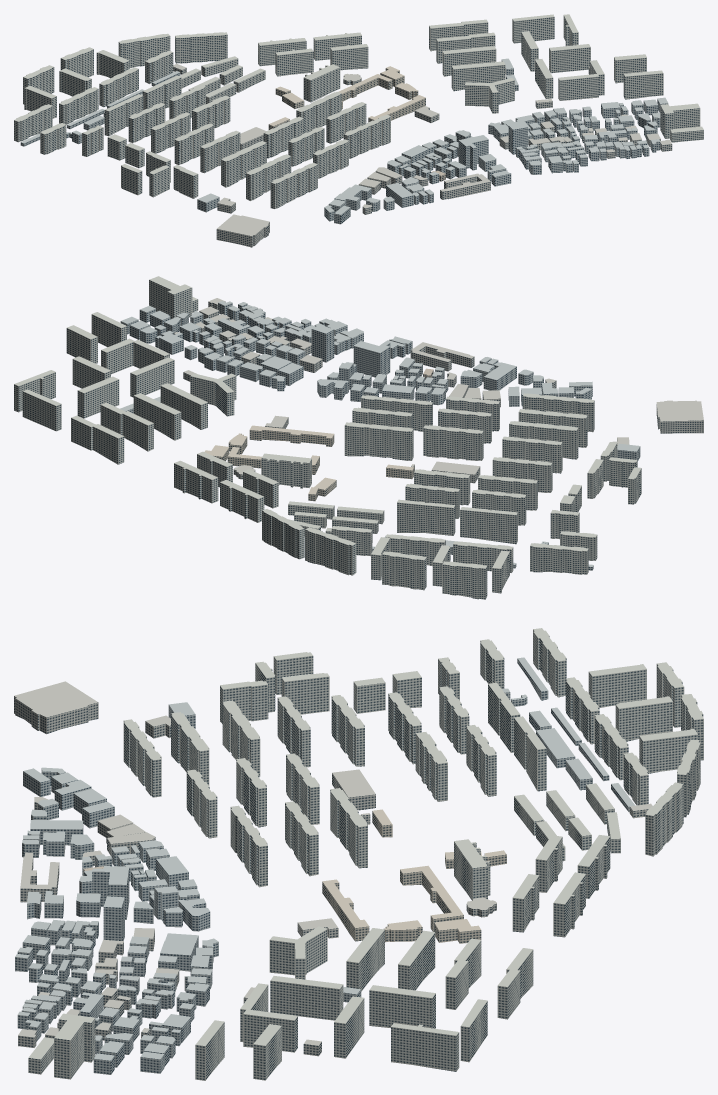
File: city_1_1.glb
3 renders of one model, top to bottom at view 1: azimuth 30°, elevation 25°; view 2: azimuth 150°, elevation 25°; view 3: azimuth 270°, elevation 25°, orthographic. The views are drawn at different scales.
Bounding box in the file's own units: 1066 × 68.07 × 749.
5 materials, 5 textured.
